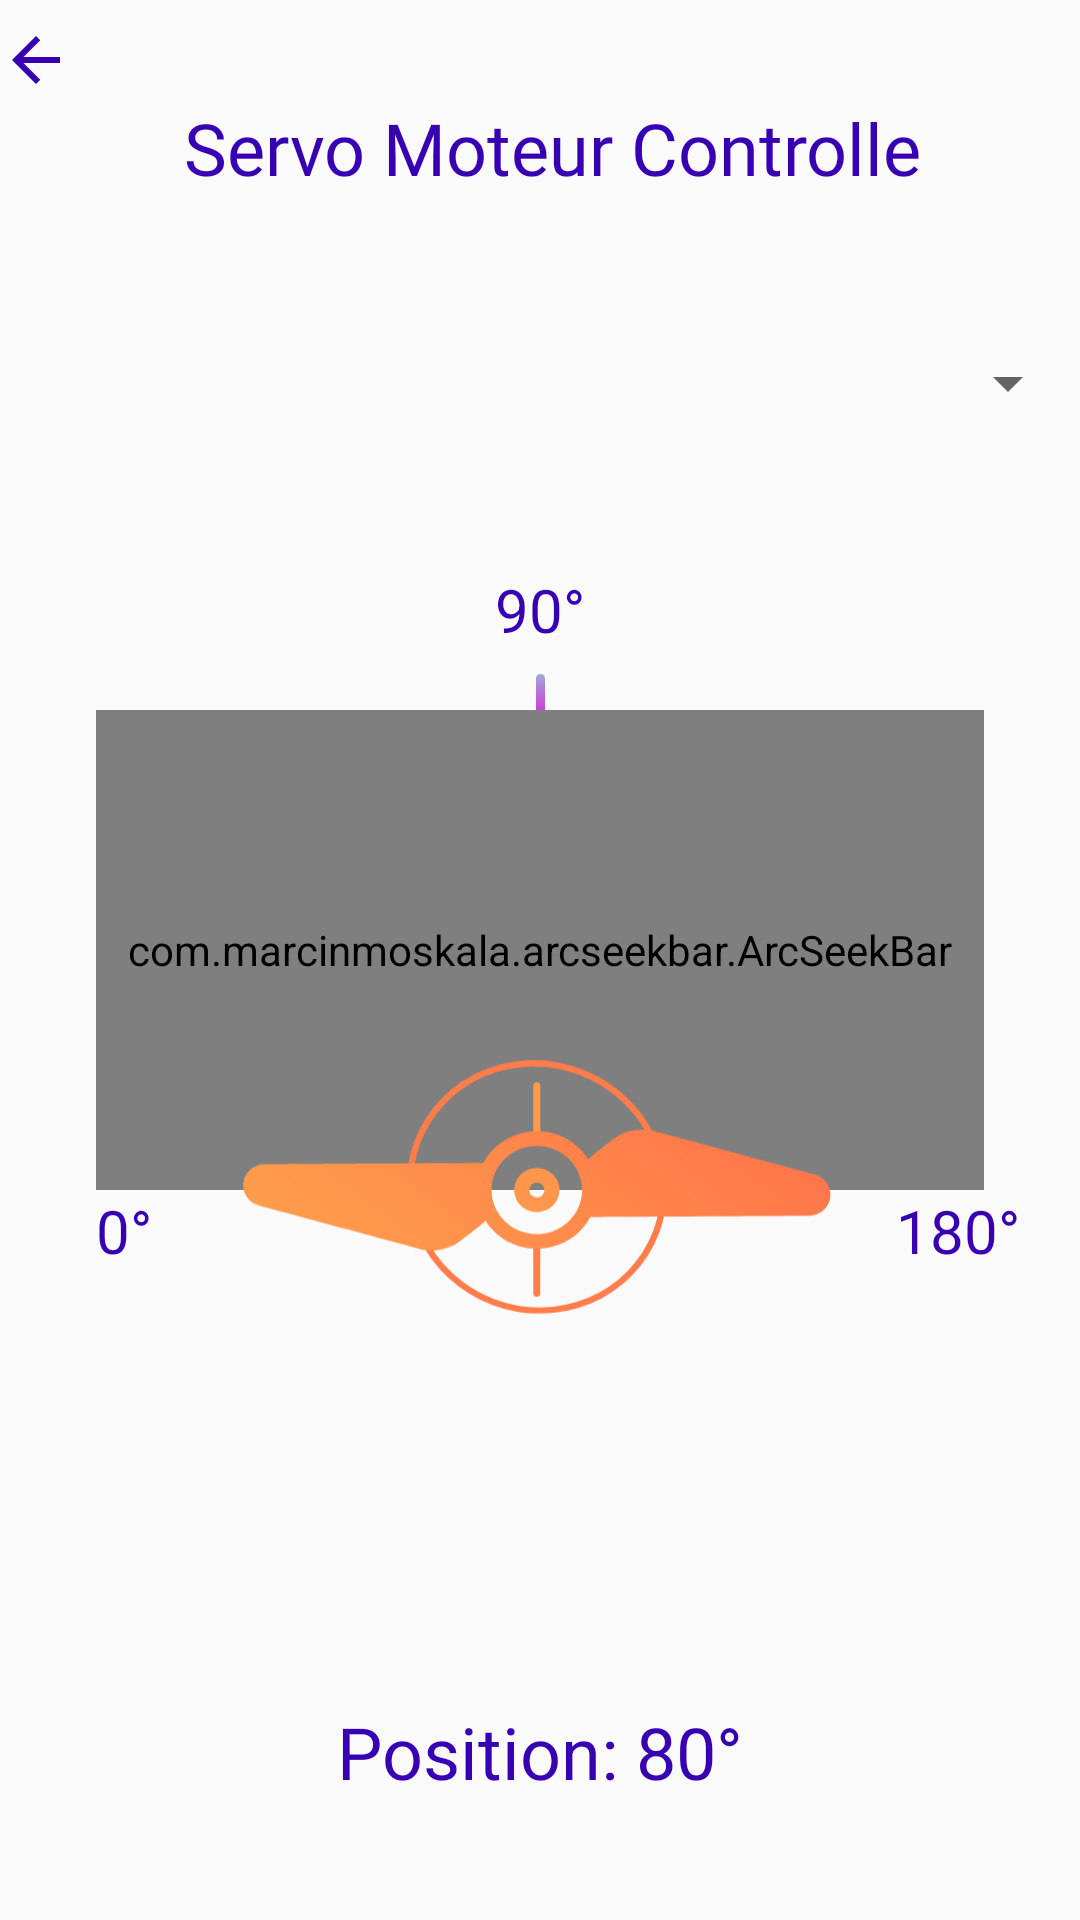

Named icons in this screenshot (1080 x 1920) and their bounding boxes, [x1=x1, y1=y1, x2=x2, y2=y2]:
arrow back: [x1=12, y1=36, x2=60, y2=84]
